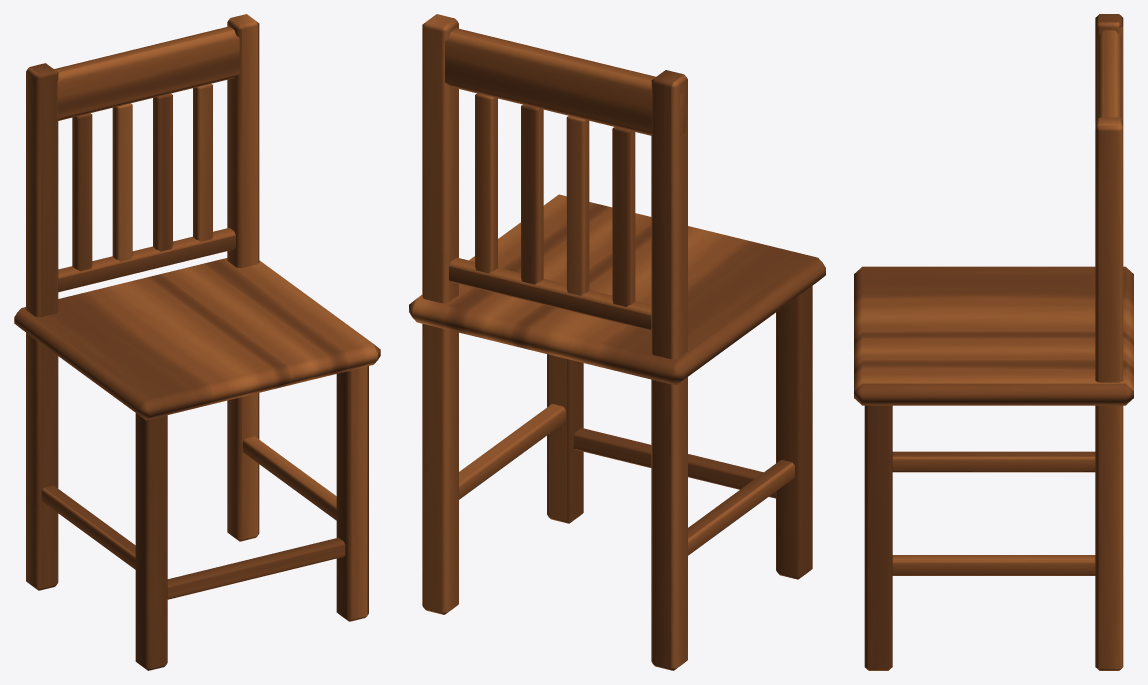
The model's file is kids_desk_chair.glb.
The picture shows the model from 3 angles, left to right: view 1: azimuth 30°, elevation 25°; view 2: azimuth 150°, elevation 25°; view 3: azimuth 270°, elevation 25°; orthographic projection. The views are drawn at different scales.
Visible parts, largest first — view 1: model; view 2: model; view 3: model.
Part boxes in pixels (left/top/right/bottom): model: left=14, top=14, right=380, bottom=670; model: left=409, top=14, right=825, bottom=670; model: left=854, top=14, right=1133, bottom=670.
Size of the model in its own units: 0.42 by 0.86 by 0.4.
Materials: 1 (1 with a texture image).
